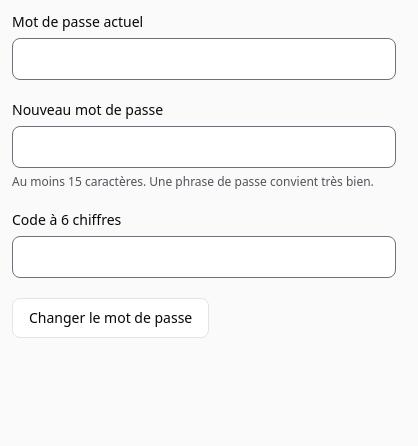
Test: admin forms › PasswordForm › reports {"status":"invalid","problem":"contains_context_word"}
The width and height of the screenshot is (418, 446).
In the password field labelled "Mot de passe actuel": (204, 59) [12,38,396,80], type "current password"
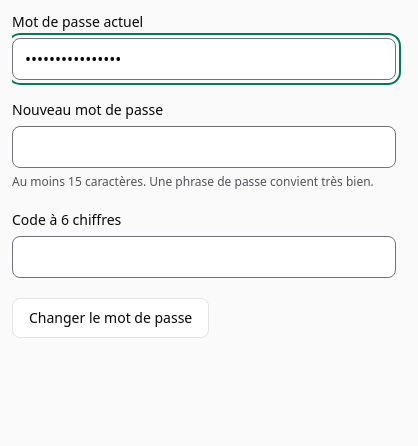
In the password field labelled "Nouveau mot de passe": (204, 147) [12,126,396,168], type "a new long passphrase"
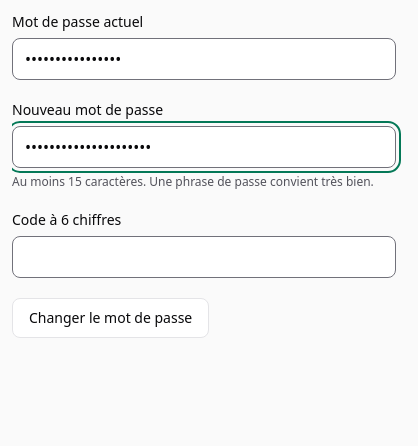
In the field labelled "Code à 6 chiffres": (204, 257) [12,236,396,278], type "123456"
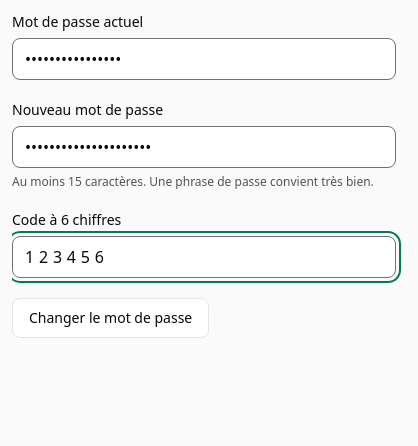
Click the button "Changer le mot de passe": click(111, 318) [12,298,209,338]
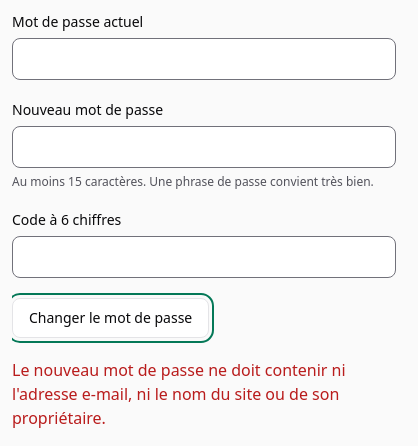
Check: the message shows "ni l'adresse e-mail", box [12,359,346,429]
